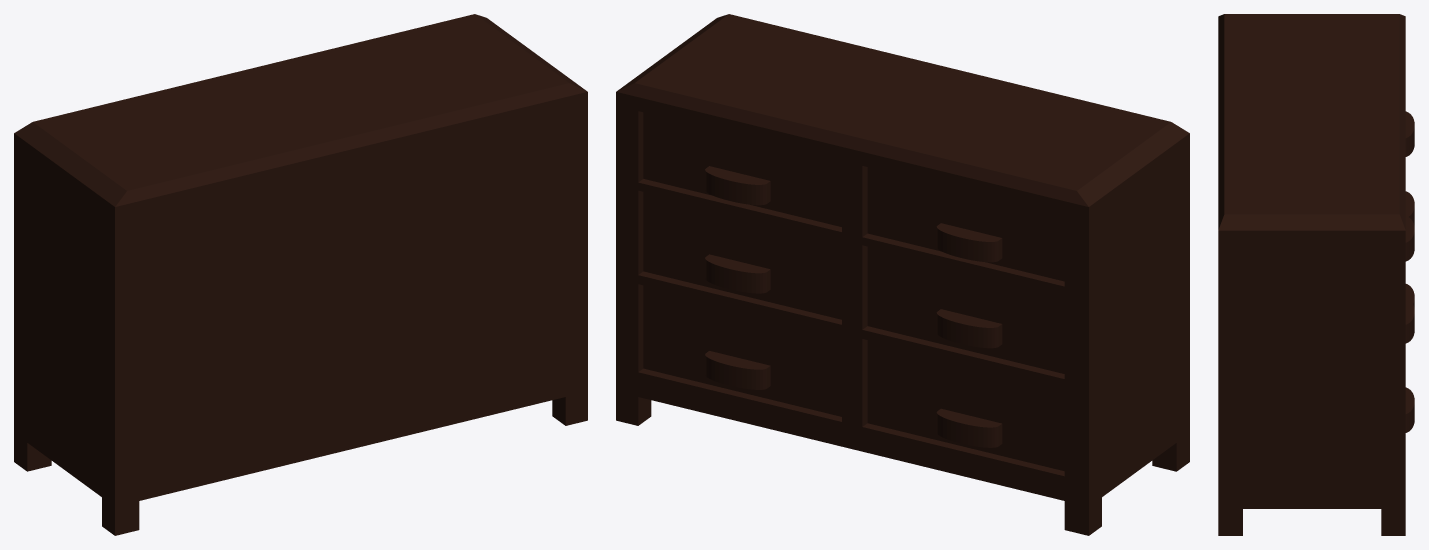
File: dresser.fbx
The picture shows the model from 3 angles, left to right: view 1: azimuth 30°, elevation 25°; view 2: azimuth 150°, elevation 25°; view 3: azimuth 270°, elevation 25°; orthographic projection. The views are drawn at different scales.
Visible parts, largest first — view 1: Cube; view 2: Cube; view 3: Cube.
Boxes of the visible parts, x1,y1,x2,y2 form: Cube: [14, 14, 587, 535]; Cube: [616, 14, 1189, 535]; Cube: [1218, 14, 1414, 535].
Bounding box in the file's own units: 1084 × 742 × 420.
